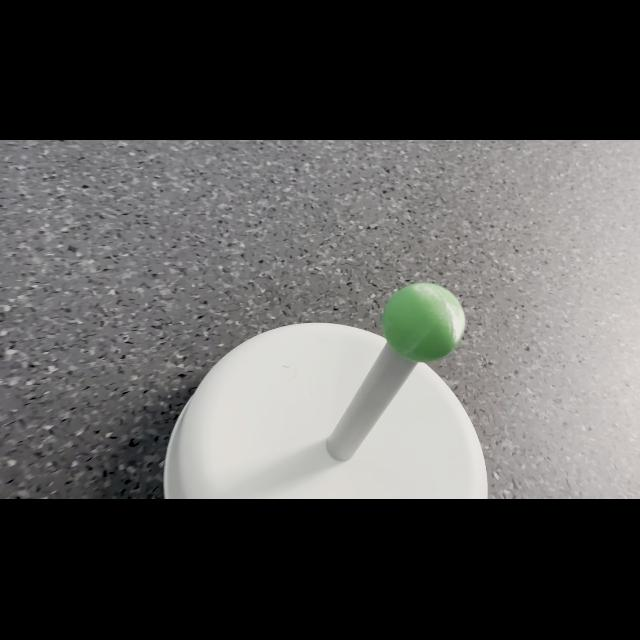objects: (378, 276, 472, 366)
